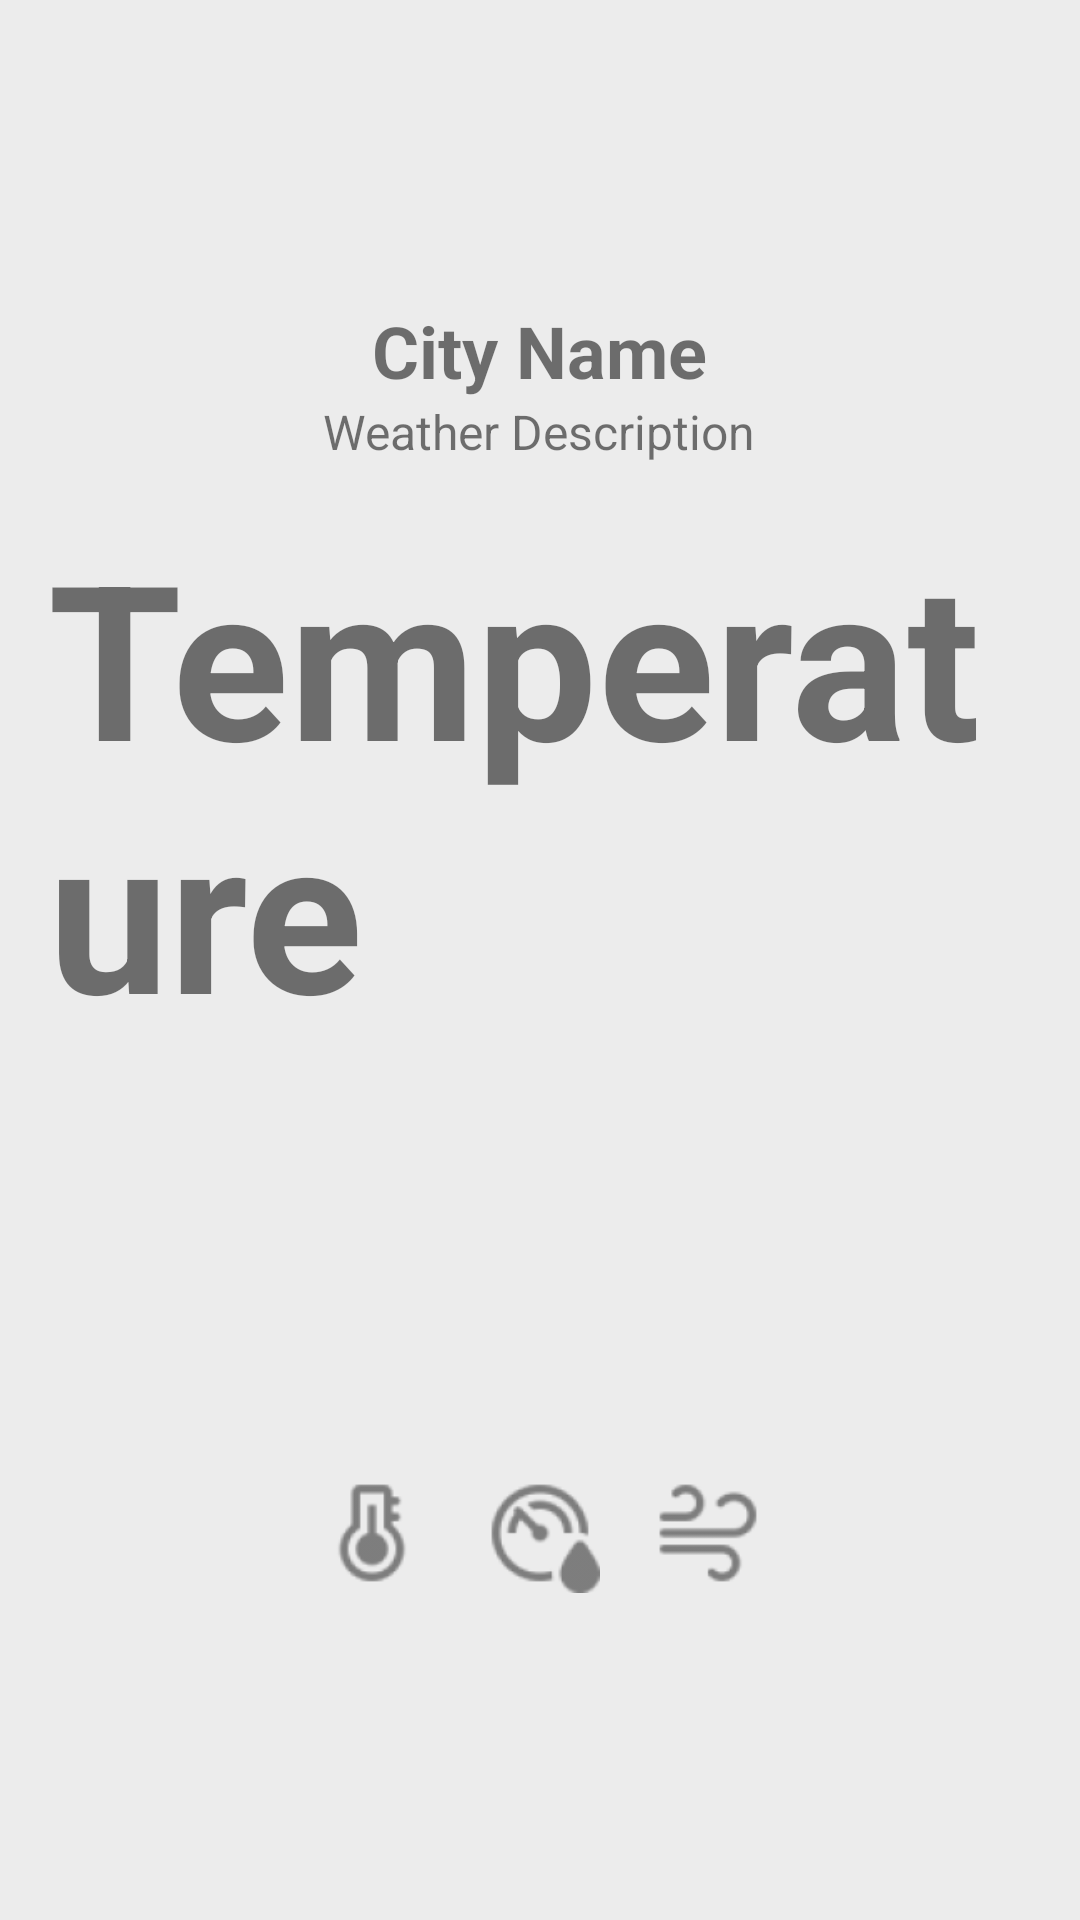

Screen size 1080*1920. Icon name, then its box in pixels as Rect(x1, y1, x2, y2):
humidity: Rect(491, 1484, 600, 1593)
temperature: Rect(339, 1484, 405, 1582)
wind: Rect(659, 1484, 757, 1582)
